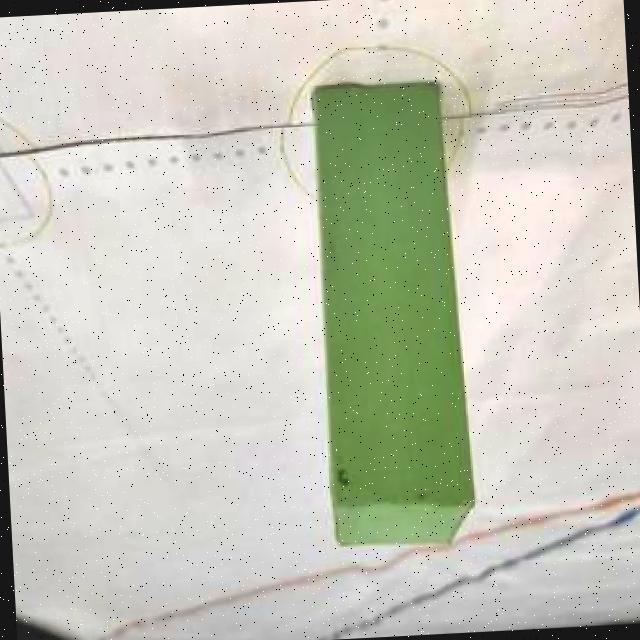greenbox: (305, 79, 478, 548)
